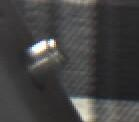screw: (22, 37, 74, 88)
